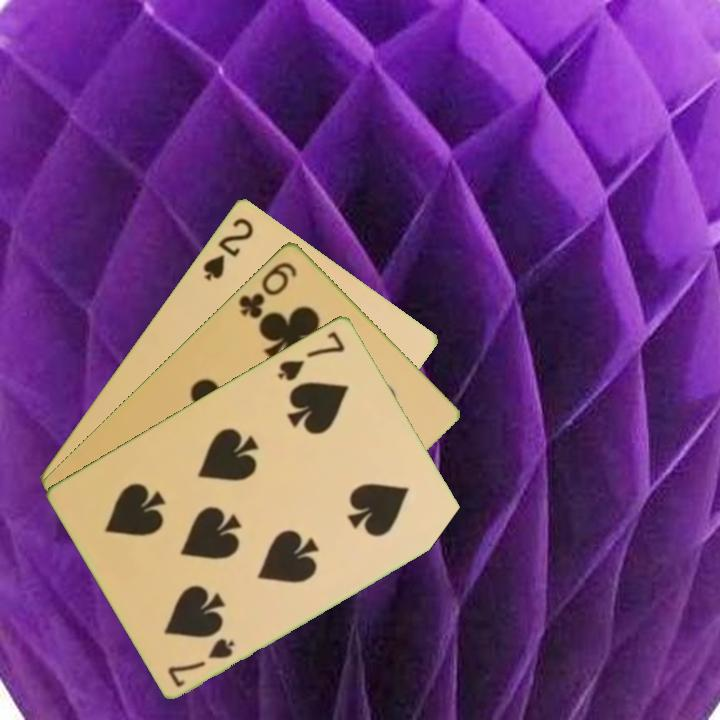2s: (199, 213, 257, 284)
6c: (234, 258, 300, 321)
7s: (274, 327, 349, 384), (164, 633, 238, 690)
